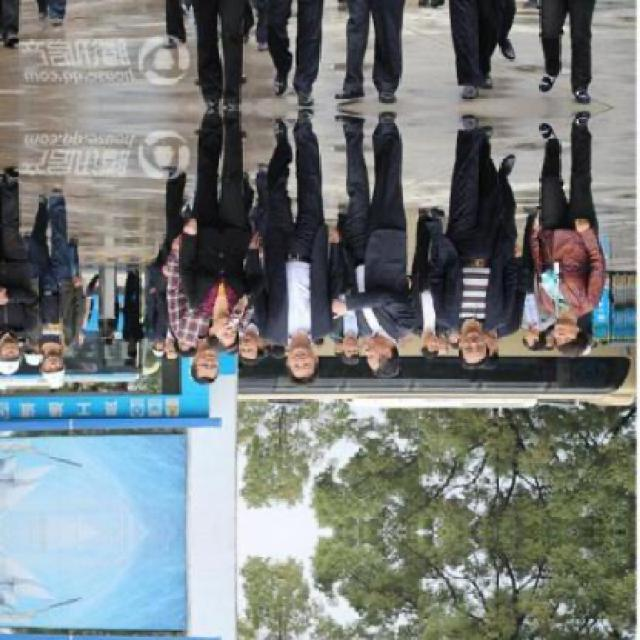sin casco: (172, 267, 272, 357), (249, 311, 341, 387), (427, 308, 518, 380), (354, 298, 424, 378), (533, 282, 599, 356), (162, 321, 240, 382)
